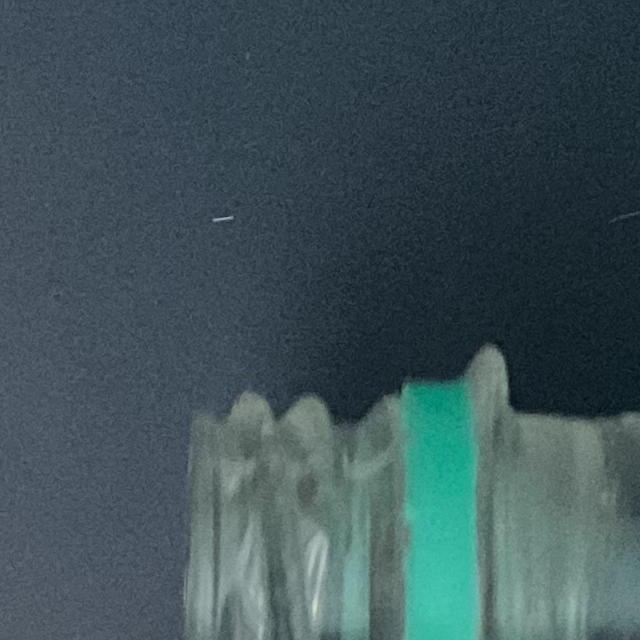open-cap: (165, 364, 480, 640)
